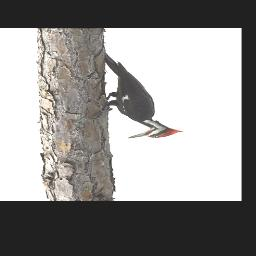Woodpecker: (105, 51, 184, 139)
